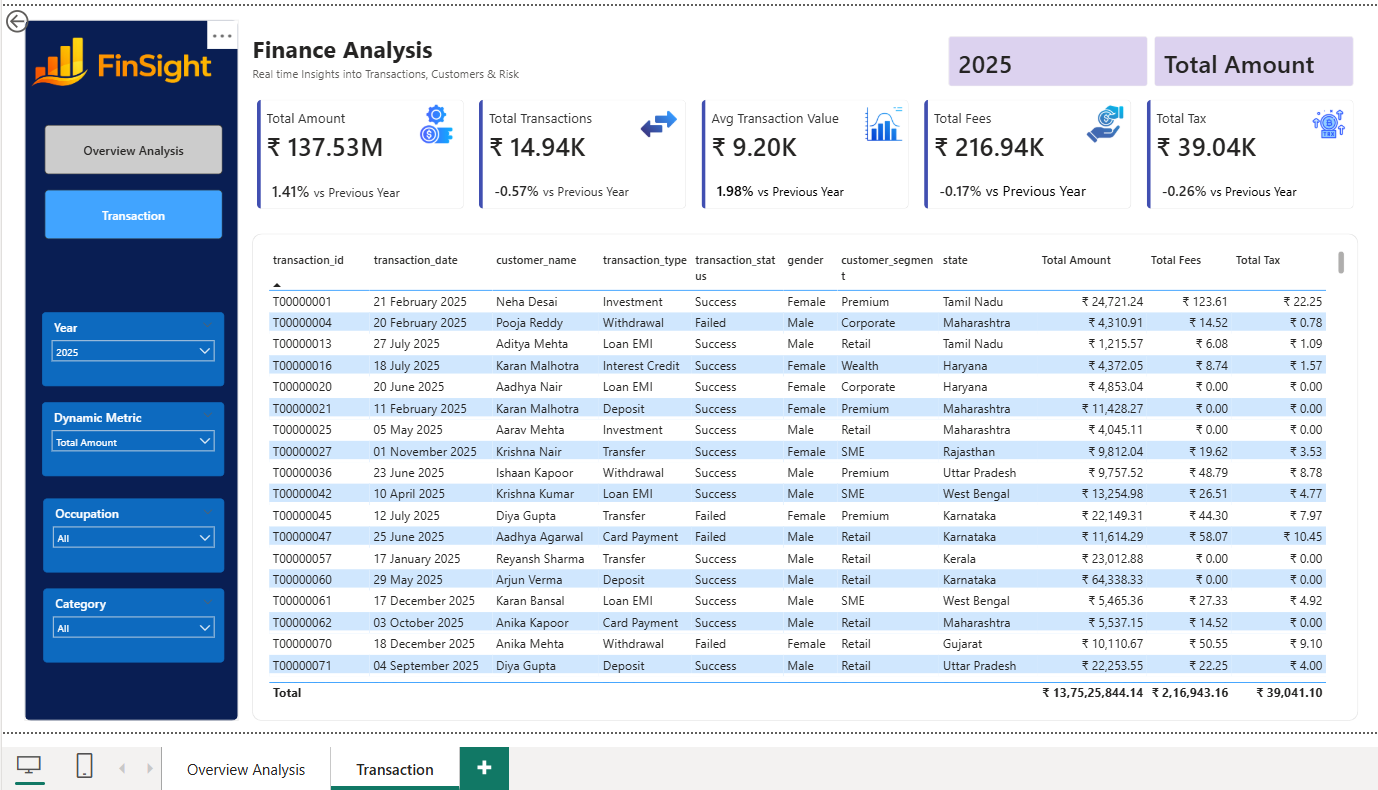

The dashboard page shown, as its layout file describes it:
{"tool":"powerbi","page":{"name":"Transaction","canvas":[1800,950],"ordinal":1},"visuals":[{"type":"shape","box":[29.4,18,279.6,917.3],"z":0},{"type":"image","box":[29.4,18,260,111.2],"z":2000},{"type":"cardVisual","fields":{"Data":["finance_transactions.Dashboard Title"]},"box":[310.3,18,426.5,98.1],"z":3000},{"type":"cardVisual","fields":{"Data":["finance_transactions.Total Amount","finance_transactions.Total Transactions","finance_transactions.Avg Transaction Value","finance_transactions.Total Fees","finance_transactions.Total Tax"]},"box":[327,116.1,1447.1,155.3],"z":4000},{"type":"image","box":[542.9,129.2,50.7,50.7],"z":5000},{"type":"image","box":[833.9,129.2,50.7,50.7],"z":6000},{"type":"image","box":[1128.3,129.2,50.7,50.7],"z":7000},{"type":"image","box":[1417.7,129.2,50.7,50.7],"z":8000},{"type":"image","box":[1710.4,129.2,50.7,50.7],"z":9000},{"type":"shape","box":[327,297.6,1447.1,637.7],"z":10000},{"type":"cardVisual","fields":{"Data":["finance_transactions.Selected Year","finance_transactions.Selected Dynamic Measure"]},"box":[1232.9,34.3,541.2,76.9],"z":11000},{"type":"tableEx","fields":{"Values":["finance_transactions.transaction_id","finance_transactions.transaction_date","customers.customer_name","finance_transactions.transaction_type","finance_transactions.transaction_status","customers.gender","customers.customer_segment","customers.state","finance_transactions.Total Amount","finance_transactions.Total Fees","finance_transactions.Total Tax"]},"box":[343.4,315.6,1417.7,598.5],"z":12000},{"type":"actionButton","box":[0,0,100,40],"z":13000},{"type":"slicer","fields":{"Values":["Calender Table.Year"]},"box":[51.7,400.1,238.4,96.7],"z":14000},{"type":"slicer","fields":{"Values":["Dynamic Metric.Dynamic Metric"]},"box":[52.3,518.4,238.7,96.5],"z":15000},{"type":"slicer","fields":{"Values":["customers.occupation"]},"box":[54,644.3,237.1,96.5],"z":16000},{"type":"slicer","fields":{"Values":["finance_transactions.merchant_category"]},"box":[54,762,237.1,96.5],"z":17000},{"type":"pageNavigator","box":[55.6,155.3,233.8,150.4],"z":18000}]}

Visuals, with their boxes on the page's 1800x950 design canvas (x1, y1, x2, y2). These are canvas units, not pixel positions in the 1378x790 screenshot, which may show the page scaled, cropped or inside an application window:
shape: (x1=29, y1=18, x2=309, y2=935)
image: (x1=29, y1=18, x2=289, y2=129)
cardVisual - finance_transactions.Dashboard Title: (x1=310, y1=18, x2=737, y2=116)
cardVisual - finance_transactions.Total Amount x finance_transactions.Total Transactions: (x1=327, y1=116, x2=1774, y2=271)
image: (x1=543, y1=129, x2=594, y2=180)
image: (x1=834, y1=129, x2=885, y2=180)
image: (x1=1128, y1=129, x2=1179, y2=180)
image: (x1=1418, y1=129, x2=1468, y2=180)
image: (x1=1710, y1=129, x2=1761, y2=180)
shape: (x1=327, y1=298, x2=1774, y2=935)
cardVisual - finance_transactions.Selected Year x finance_transactions.Selected Dynamic Measure: (x1=1233, y1=34, x2=1774, y2=111)
tableEx - finance_transactions.transaction_id x finance_transactions.transaction_date: (x1=343, y1=316, x2=1761, y2=914)
actionButton: (x1=0, y1=0, x2=100, y2=40)
slicer - Calender Table.Year: (x1=52, y1=400, x2=290, y2=497)
slicer - Dynamic Metric.Dynamic Metric: (x1=52, y1=518, x2=291, y2=615)
slicer - customers.occupation: (x1=54, y1=644, x2=291, y2=741)
slicer - finance_transactions.merchant_category: (x1=54, y1=762, x2=291, y2=858)
pageNavigator: (x1=56, y1=155, x2=289, y2=306)
